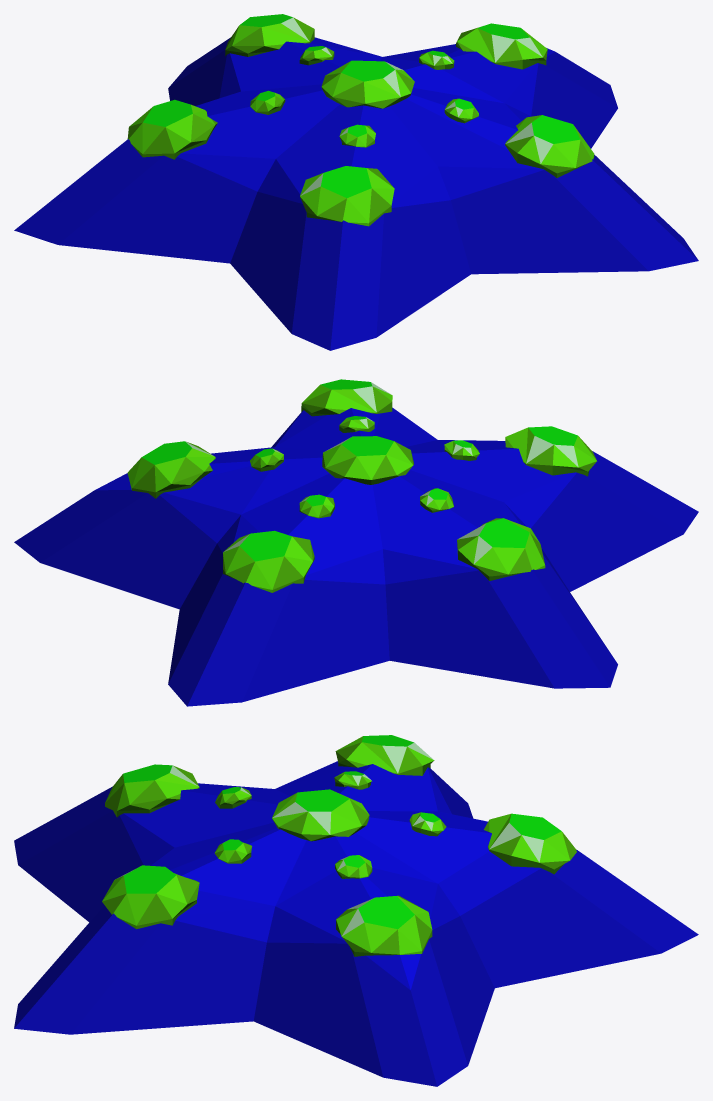
The model's file is starfish_blue.fbx.
3 renders of one model, top to bottom at view 1: azimuth 30°, elevation 25°; view 2: azimuth 150°, elevation 25°; view 3: azimuth 270°, elevation 25°, orthographic. The views are drawn at different scales.
Parts seen in each view (by area): view 1: starfish_blue; view 2: starfish_blue; view 3: starfish_blue.
Boxes of the visible parts, <box> form: starfish_blue: <box>14,14,698,350</box>; starfish_blue: <box>14,379,698,706</box>; starfish_blue: <box>14,735,698,1086</box>.
Size of the model in its own units: 0.7089 by 0.1461 by 0.6742.
